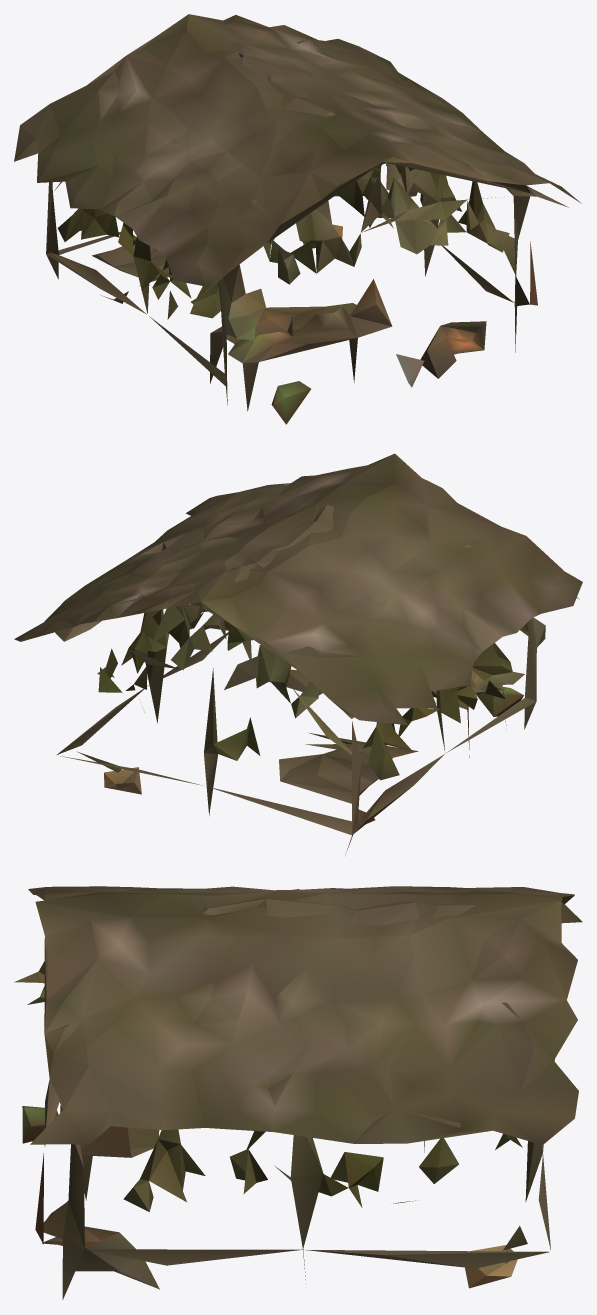
File: bq_incense.vc2.glb
3 views of the same model, one above another, from view 1: azimuth 30°, elevation 25°; view 2: azimuth 150°, elevation 25°; view 3: azimuth 270°, elevation 25° (orthographic). The views are drawn at different scales.
Visible parts, largest first — view 1: bq_incense; view 2: bq_incense; view 3: bq_incense.
Part boxes in pixels (x1=…): bq_incense: x1=14, y1=14, x2=581, y2=424; bq_incense: x1=14, y1=453, x2=582, y2=854; bq_incense: x1=14, y1=886, x2=582, y2=1299.
Bounding box in the file's own units: 1.88 × 1.1 × 1.81.
